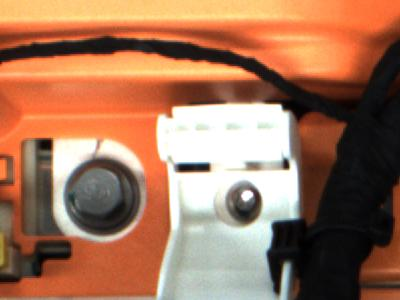nut_b: (60, 158, 137, 237)
